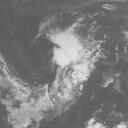cyclone: (45, 25, 95, 81)
